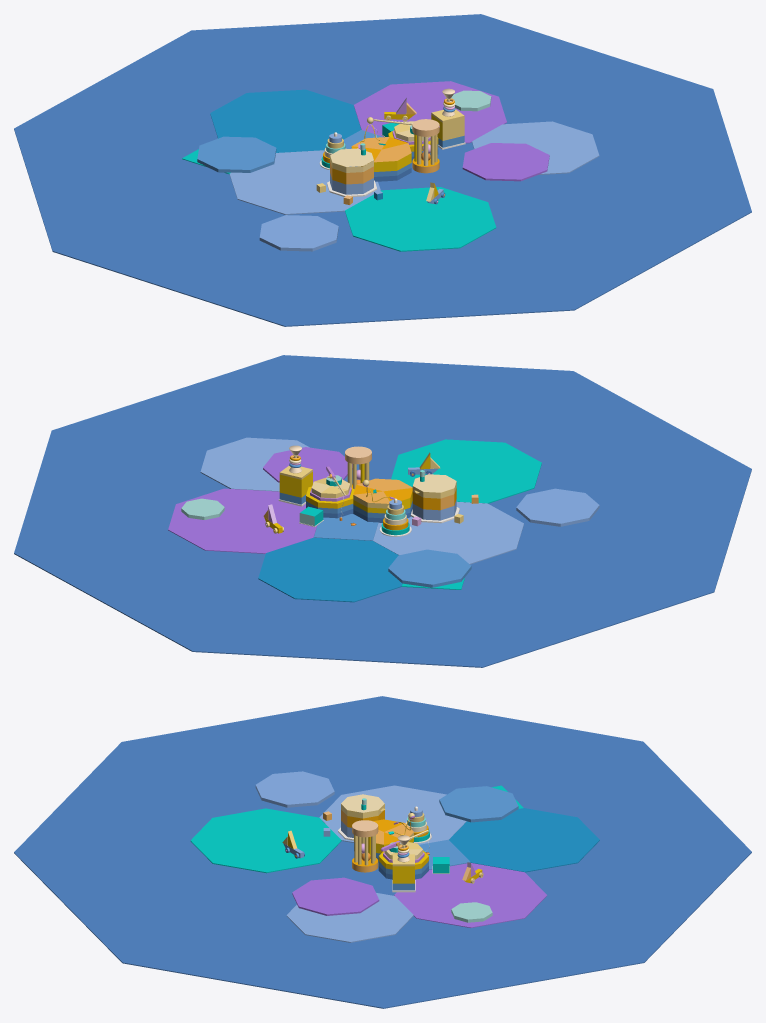
Rendered from toyisland.glb.
The picture shows the model from 3 angles, top to bottom: view 1: azimuth 30°, elevation 25°; view 2: azimuth 150°, elevation 25°; view 3: azimuth 270°, elevation 25°; orthographic projection. The views are drawn at different scales.
Parts seen in each view (by area): view 1: Base_3, Cylinder_2_13, Cylinder_1_12, Cylinder_5_4, Cylinder_3_11, Cylinder_9_3, Cylinder_11_3, Cylinder_14, Cylinder_6_2, Base, Base_1, Cube_1_4 (+1 smaller); view 2: Base_3, Cylinder_1_12, Cylinder_3_11, Cylinder_2_13, Cylinder_5_4, Cylinder_9_3, Cylinder_6_2, Cylinder_14, Cylinder_11_3, Base, Base_1, Cube_8_2 (+2 smaller); view 3: Base_3, Cylinder_2_13, Cylinder_1_12, Cylinder_3_11, Cylinder_9_3, Cylinder_5_4, Cylinder_11_3, Cylinder_14, Cylinder_6_2, Base, Base_1, Cube_8_2 (+1 smaller).
Part boxes in pixels (x1=…): Base_3: x1=14, y1=14, x2=751, y2=326; Cylinder_2_13: x1=345, y1=187, x2=496, y2=251; Cylinder_1_12: x1=210, y1=89, x2=361, y2=152; Cylinder_5_4: x1=229, y1=150, x2=380, y2=214; Cylinder_3_11: x1=354, y1=81, x2=506, y2=143; Cylinder_9_3: x1=472, y1=121, x2=599, y2=174; Cylinder_11_3: x1=462, y1=143, x2=549, y2=181; Cylinder_14: x1=259, y1=215, x2=338, y2=251; Cylinder_6_2: x1=197, y1=136, x2=276, y2=172; Base: x1=330, y1=148, x2=373, y2=194; Base_1: x1=351, y1=137, x2=411, y2=181; Cube_1_4: x1=431, y1=113, x2=464, y2=147; Base_3: x1=14, y1=355, x2=751, y2=667; Cylinder_1_12: x1=258, y1=537, x2=402, y2=602; Cylinder_3_11: x1=168, y1=488, x2=316, y2=553; Cylinder_2_13: x1=391, y1=439, x2=541, y2=503; Cylinder_5_4: x1=373, y1=501, x2=523, y2=564; Cylinder_9_3: x1=200, y1=437, x2=309, y2=491; Cylinder_6_2: x1=388, y1=549, x2=471, y2=587; Cylinder_14: x1=516, y1=488, x2=599, y2=526; Cylinder_11_3: x1=263, y1=447, x2=352, y2=482; Base: x1=412, y1=474, x2=456, y2=520; Base_1: x1=353, y1=478, x2=412, y2=522; Cube_8_2: x1=313, y1=514, x2=378, y2=540; Base_3: x1=14, y1=696, x2=751, y2=1008; Cylinder_2_13: x1=190, y1=808, x2=341, y2=873; Cylinder_1_12: x1=449, y1=808, x2=599, y2=872; Cylinder_3_11: x1=394, y1=863, x2=547, y2=927; Cylinder_9_3: x1=286, y1=893, x2=413, y2=942; Cylinder_5_4: x1=319, y1=785, x2=466, y2=844; Cylinder_11_3: x1=292, y1=877, x2=379, y2=915; Cylinder_14: x1=255, y1=771, x2=334, y2=807; Cylinder_6_2: x1=439, y1=786, x2=518, y2=822; Base: x1=341, y1=794, x2=384, y2=837; Base_1: x1=354, y1=819, x2=413, y2=862; Cube_8_2: x1=419, y1=839, x2=470, y2=869.
Size of the model in its own units: 2235 by 178 by 2235.
